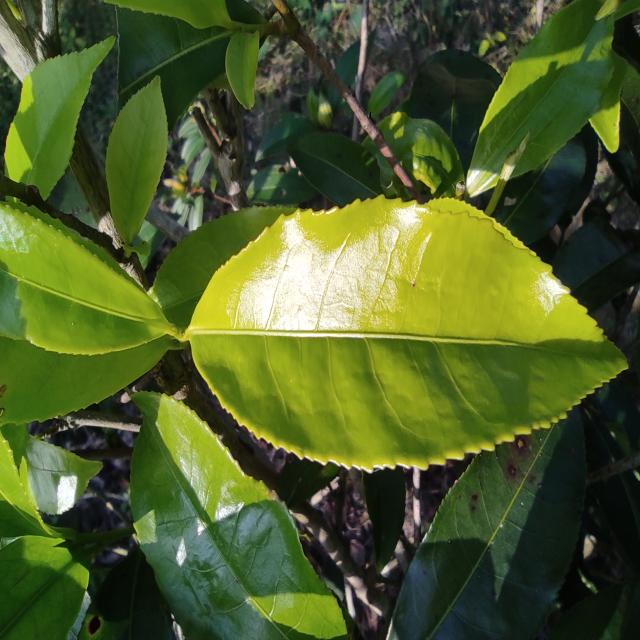Category B(2-4 days): (174, 188, 633, 480)
